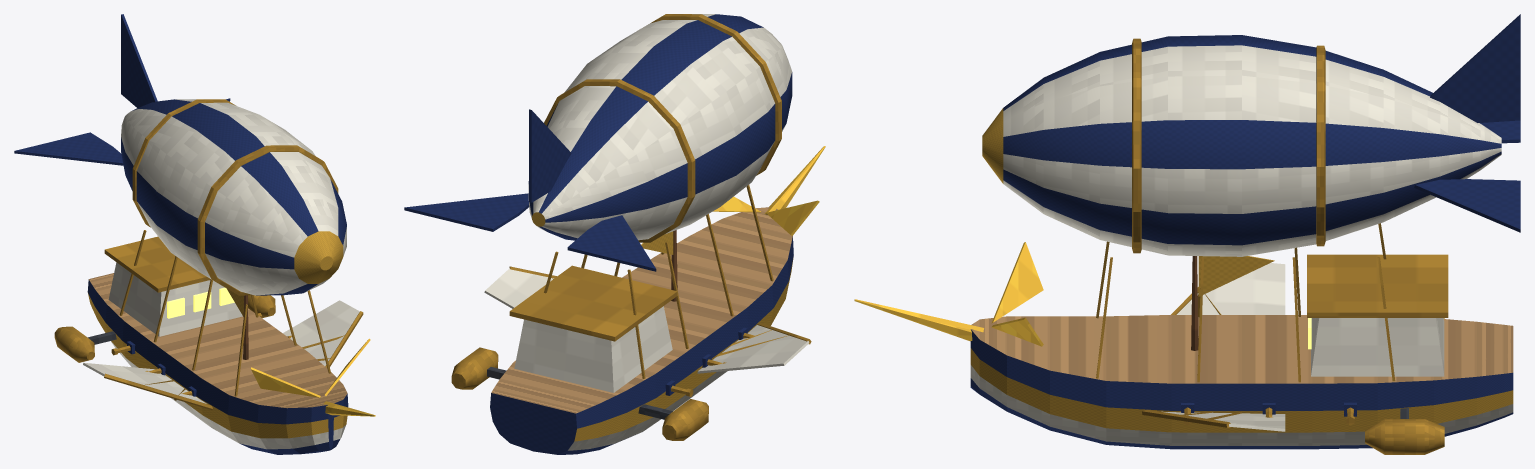
File: SM_Ship_ArmadaCorvette_HQ.glb
3 renders of one model, left to right at view 1: azimuth 30°, elevation 25°; view 2: azimuth 150°, elevation 25°; view 3: azimuth 270°, elevation 25°, orthographic. The views are drawn at different scales.
Parts seen in each view (by area): view 1: SM_Ship_ArmadaCorvette_HQ; view 2: SM_Ship_ArmadaCorvette_HQ; view 3: SM_Ship_ArmadaCorvette_HQ.
Part boxes in pixels (box(x1,y1,x2,y2)): SM_Ship_ArmadaCorvette_HQ: box(14, 14, 375, 454); SM_Ship_ArmadaCorvette_HQ: box(404, 14, 825, 454); SM_Ship_ArmadaCorvette_HQ: box(854, 14, 1520, 454).
Size of the model in its own units: 10.91 by 12.8 by 18.41.
Materials: 1 (1 with a texture image).
